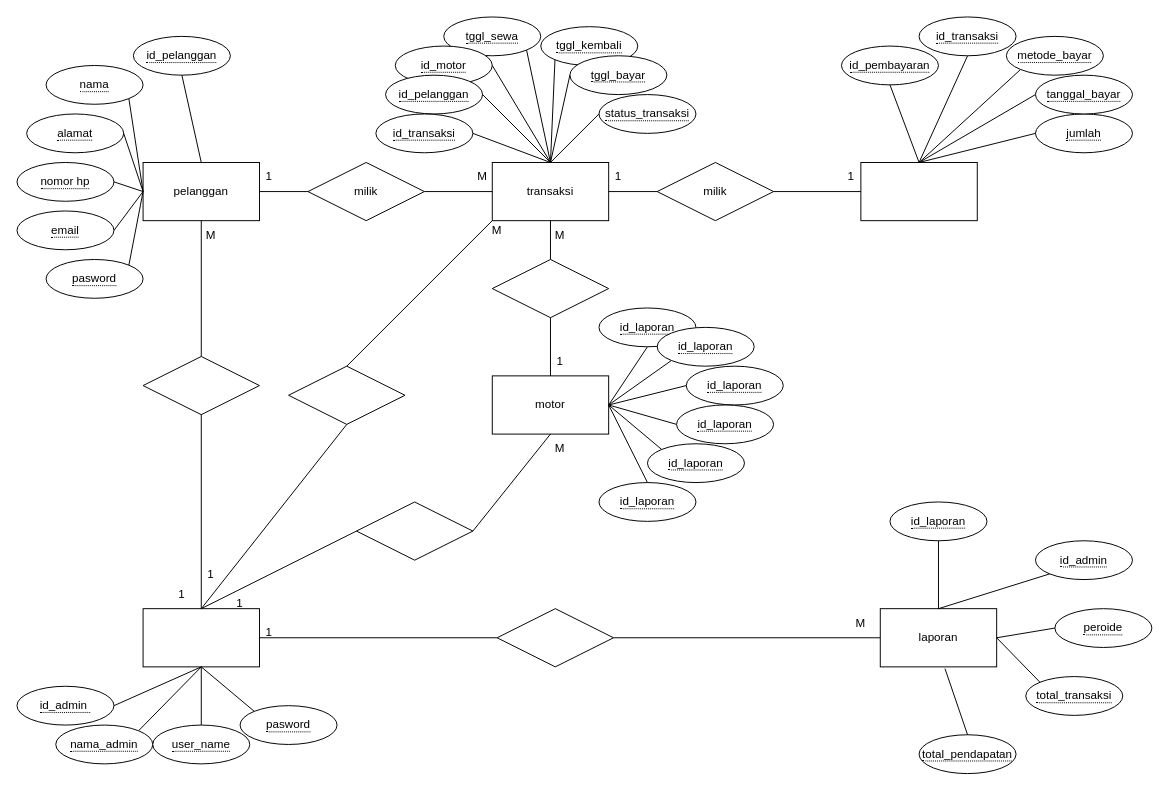
This 1169x791 diagram has some shape labels left out. The box of each missing label's shape, as (x1, y1, x2, y2) in pixels:
admin: (142, 608, 259, 667)
buat: (496, 608, 614, 667)
olah data: (142, 356, 259, 415)
pembayaran: (860, 162, 977, 221)
sewa: (491, 259, 609, 318)
tambah/ubah: (356, 501, 473, 560)
verifikasi: (288, 365, 405, 424)
